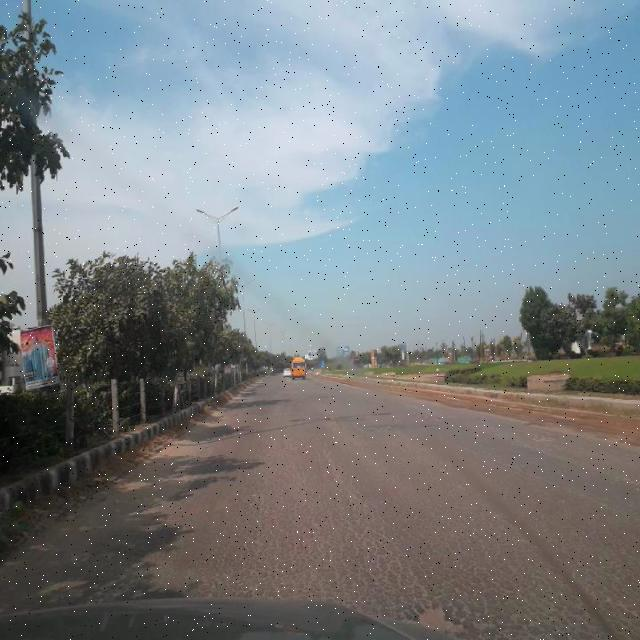D20: (58, 452, 632, 639)
D40: (404, 600, 473, 636), (524, 424, 564, 448)
